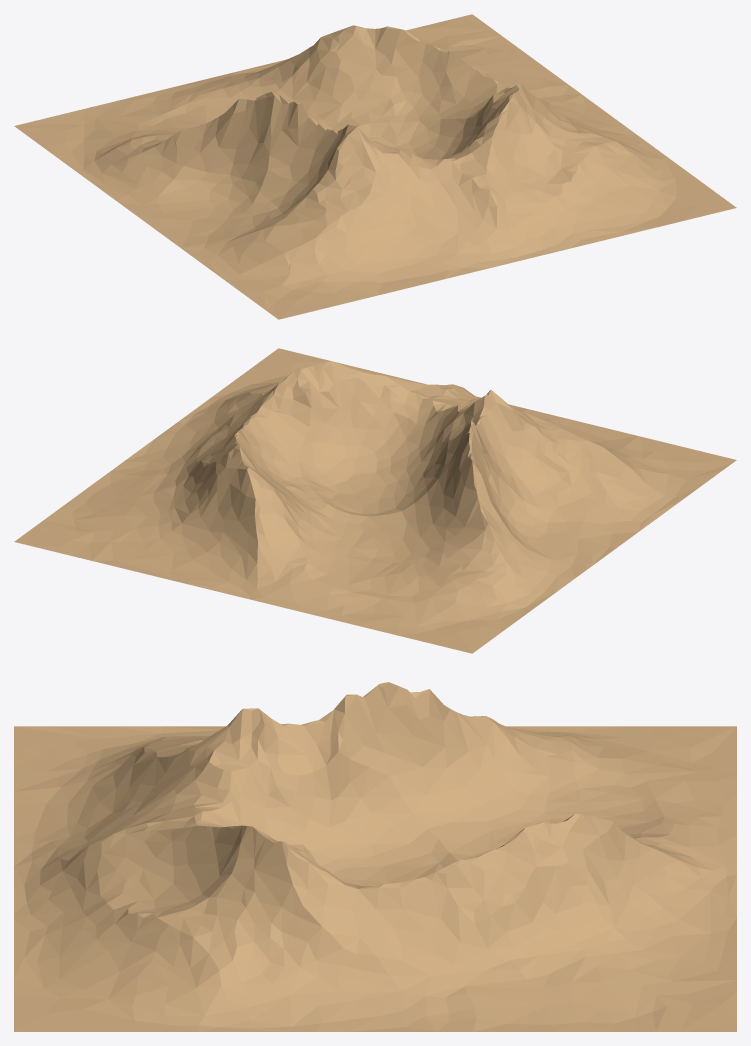
The model's file is MT_Terrain_L_f_02_LOD.fbx.
3 renders of one model, top to bottom at view 1: azimuth 30°, elevation 25°; view 2: azimuth 150°, elevation 25°; view 3: azimuth 270°, elevation 25°, orthographic. The views are drawn at different scales.
Visible parts, largest first — view 1: MT_Terrain_L_f_02_LOD0; view 2: MT_Terrain_L_f_02_LOD0; view 3: MT_Terrain_L_f_02_LOD0.
Boxes of the visible parts, <box> form: MT_Terrain_L_f_02_LOD0: <box>14,14,736,319</box>; MT_Terrain_L_f_02_LOD0: <box>14,348,736,653</box>; MT_Terrain_L_f_02_LOD0: <box>14,682,736,1031</box>.
Size of what is drawn, in the model's own units: 10000 by 2015 by 10000.
